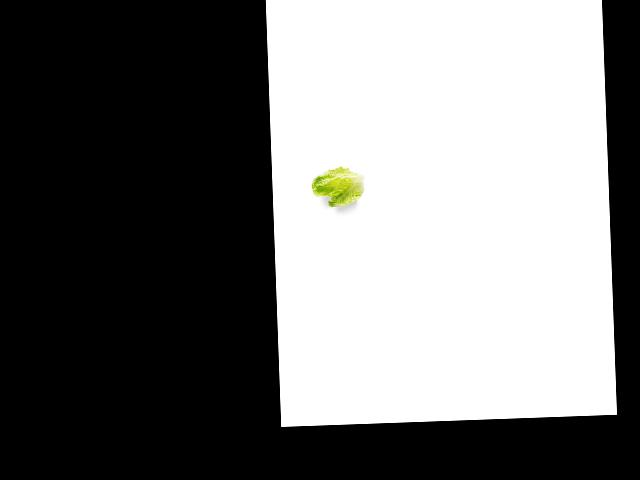lettuce: (307, 164, 370, 208)
